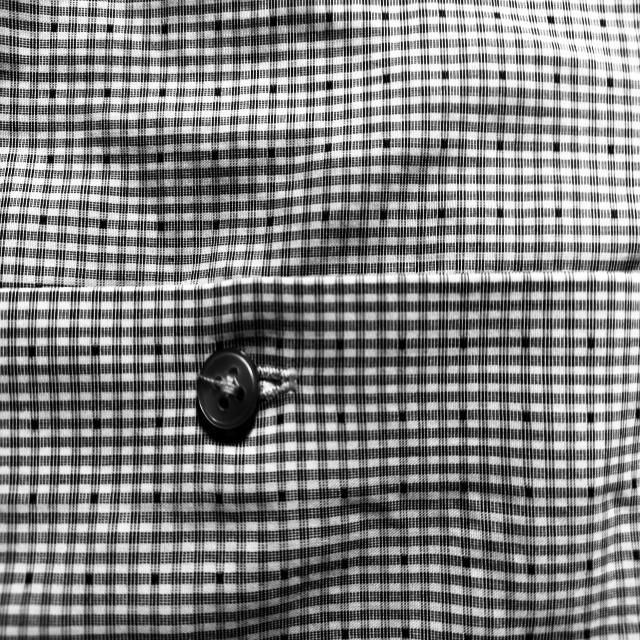Button_hike: (186, 331, 316, 438)
